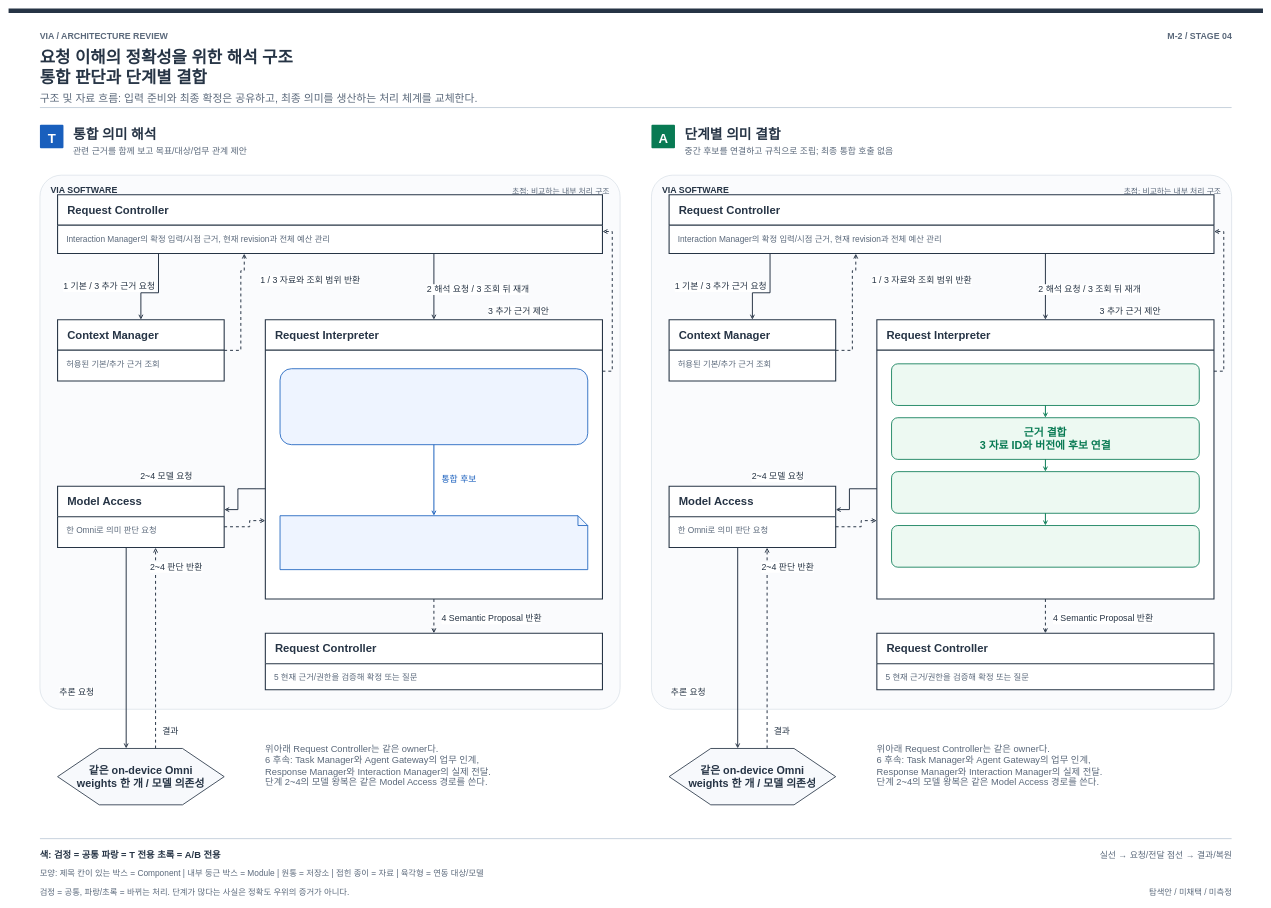
The diagram is 1271 pixels wide and 908 high, and some of its shapes have lost their labels. The centre of each missing label's shape, as x and y in pixels:
"목표 / 대상 / 업무 관계 / 미해결 근거 하나의 Semantic Proposal" goes at (x=433, y=542).
"발화 분해 2 목표/부정/조건/지칭 후보" goes at (x=1045, y=384).
"업무 관계 결합 4 Task/질문/처리 방식 후보" goes at (x=1045, y=492).
"통합 의미 해석 원문 + 화면/자료 + 관련 Task" goes at (x=433, y=406).
"해석 조립 4 미해결 유지, 코드로 결합" goes at (x=1045, y=546).
